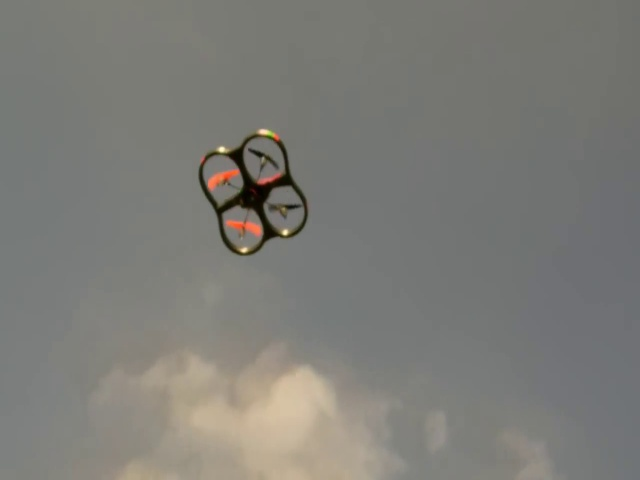drone: (194, 128, 310, 258)
